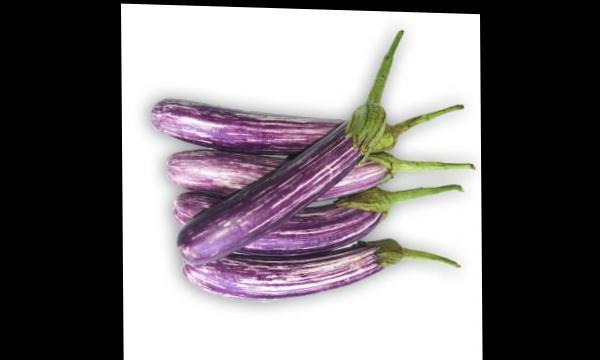eggplant: (169, 63, 410, 324)
